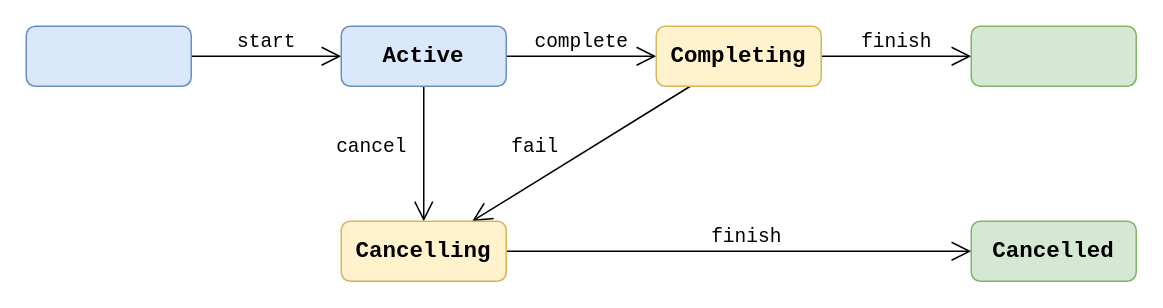
Some shapes in this 1163 by 308 pixel diagram are drawn without their labels. The centre of each missing label's shape, as x and y in pixels:
Completed: point 1053,55
New: point 108,55
